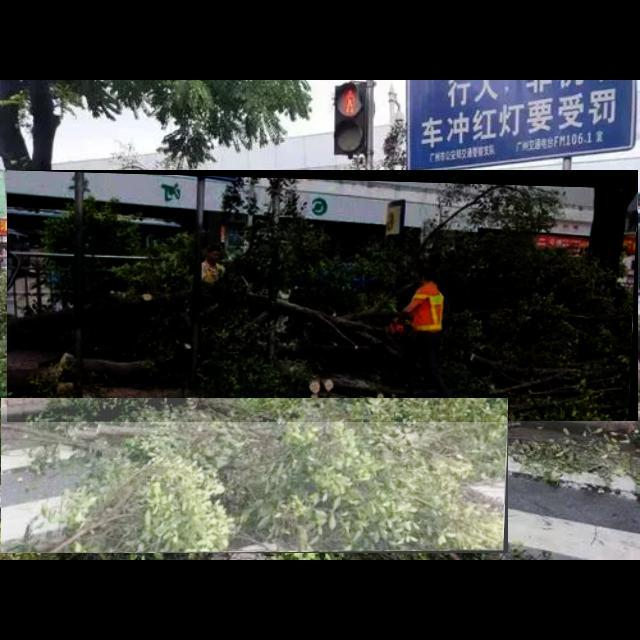fallen_tree: (7, 170, 639, 422), (1, 398, 509, 554)
